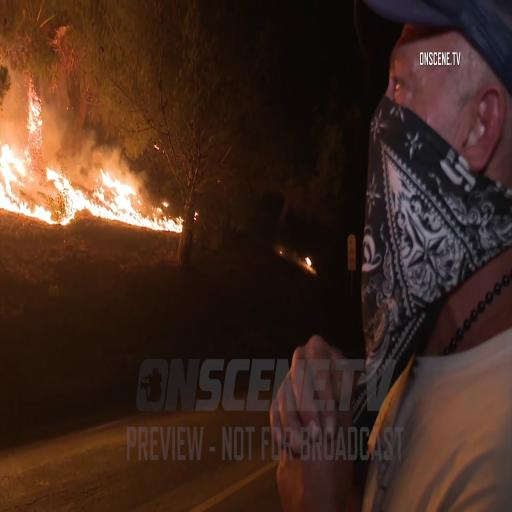fire: (1, 89, 56, 223), (94, 173, 144, 218)
